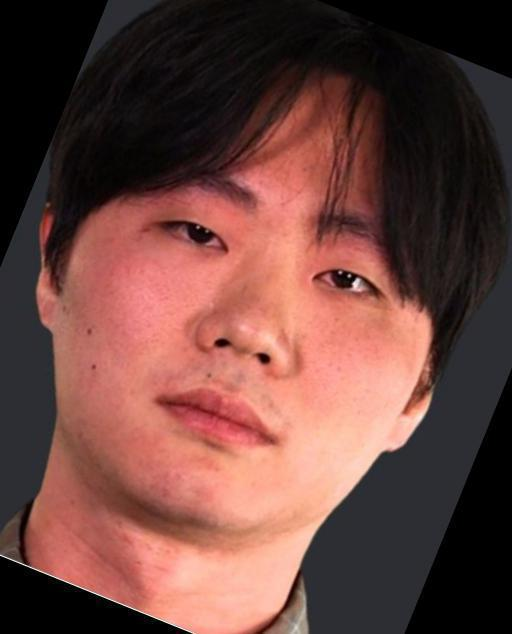Drunk: (89, 53, 402, 520)
